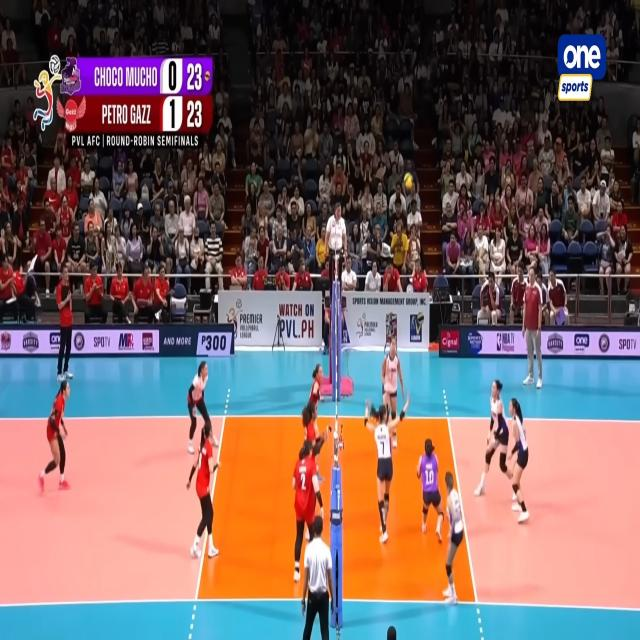Volleyball-Ball: (404, 172, 414, 190)
